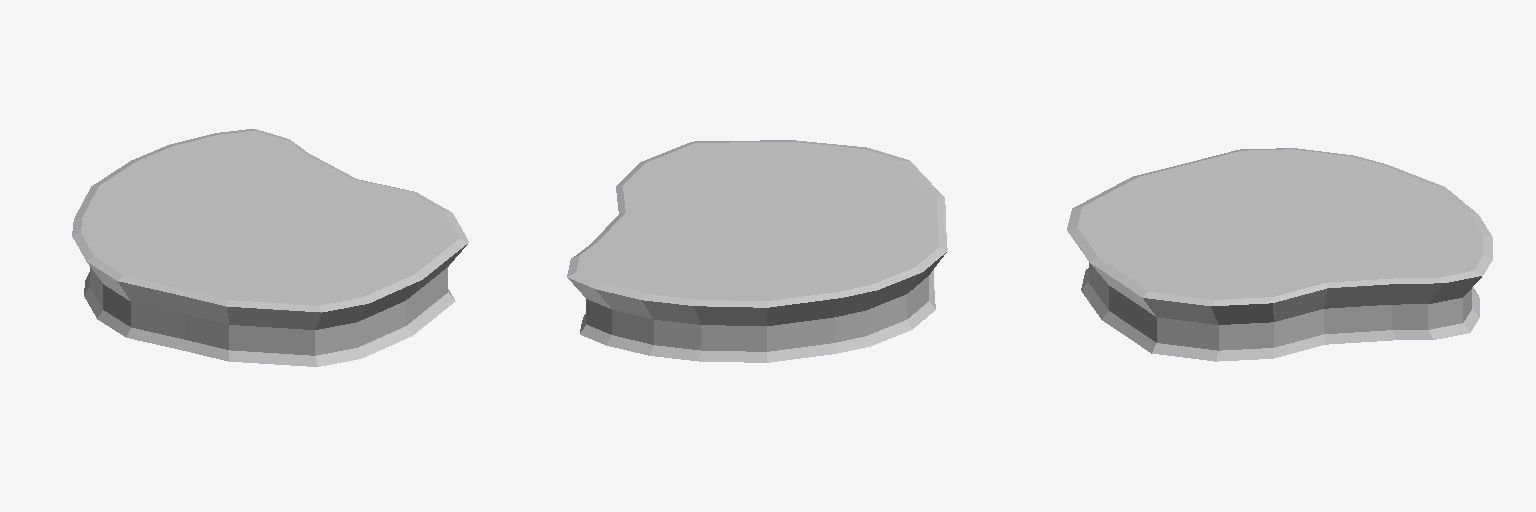
File: platform_06.obj
3 renders of one model, left to right at view 1: azimuth 30°, elevation 25°; view 2: azimuth 150°, elevation 25°; view 3: azimuth 270°, elevation 25°, orthographic.
Visible parts, largest first — view 1: platform_06_Cube.012; view 2: platform_06_Cube.012; view 3: platform_06_Cube.012.
Part boxes in pixels (x1,y1,x2,y2): platform_06_Cube.012: (72, 129, 468, 366); platform_06_Cube.012: (567, 140, 947, 362); platform_06_Cube.012: (1067, 148, 1492, 361).
Size of the model in its own units: 24.89 by 4.61 by 28.31.